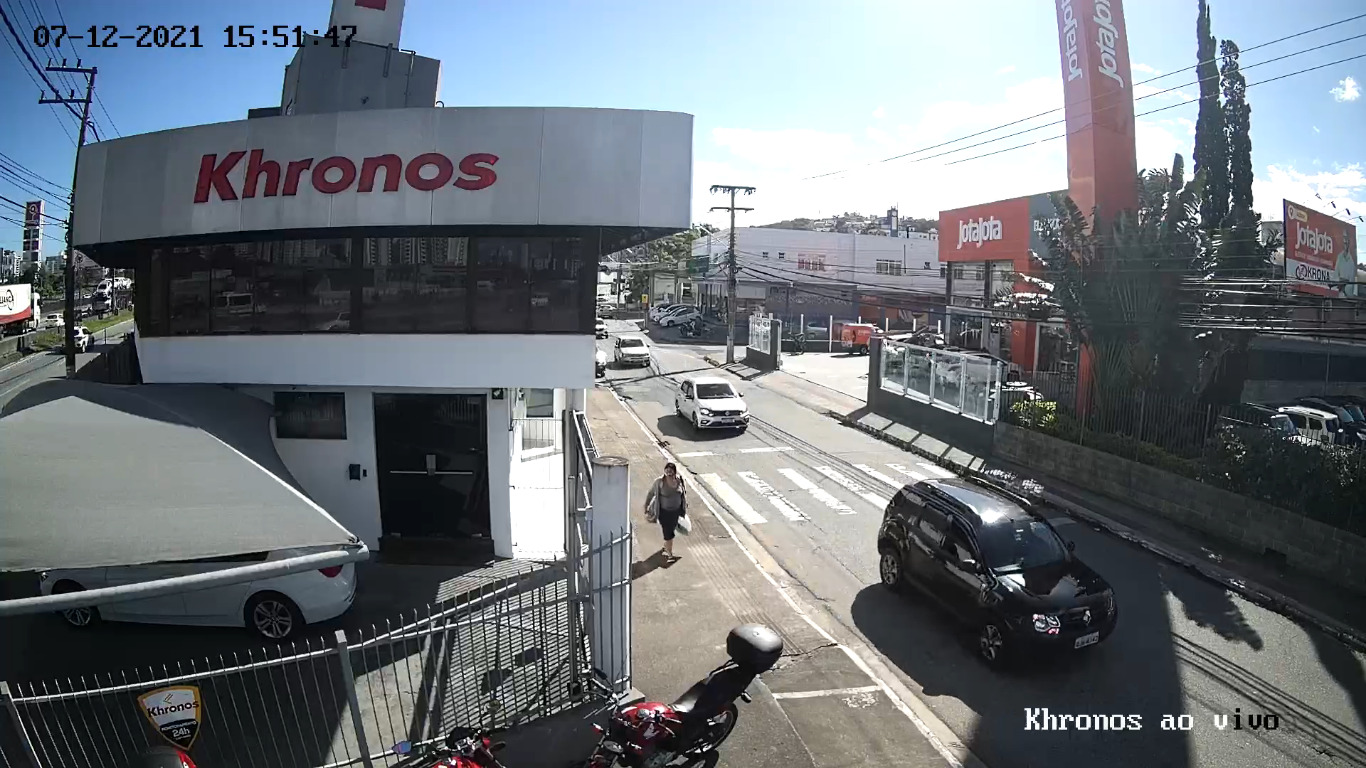car: (877, 477, 1118, 671), (675, 377, 750, 436)
